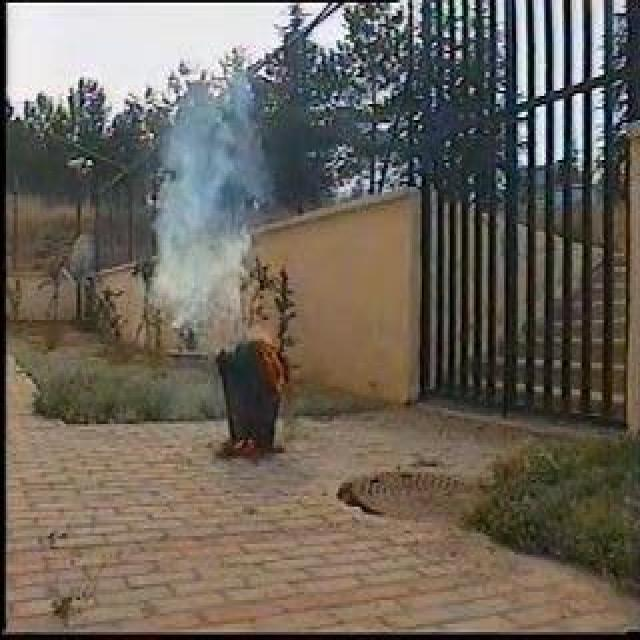fire: (254, 324, 290, 391)
smoke: (152, 79, 254, 332)
